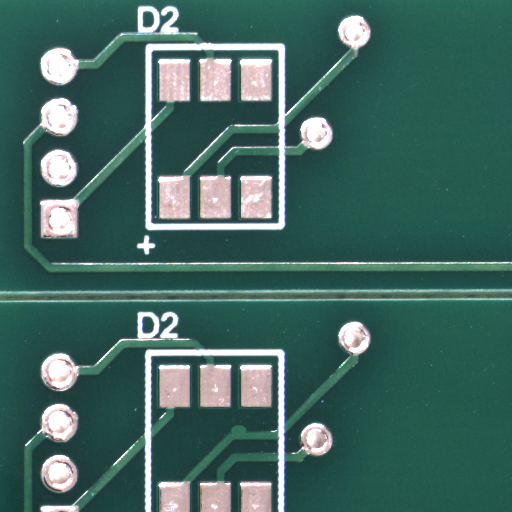Spur: (239, 428, 258, 437)
